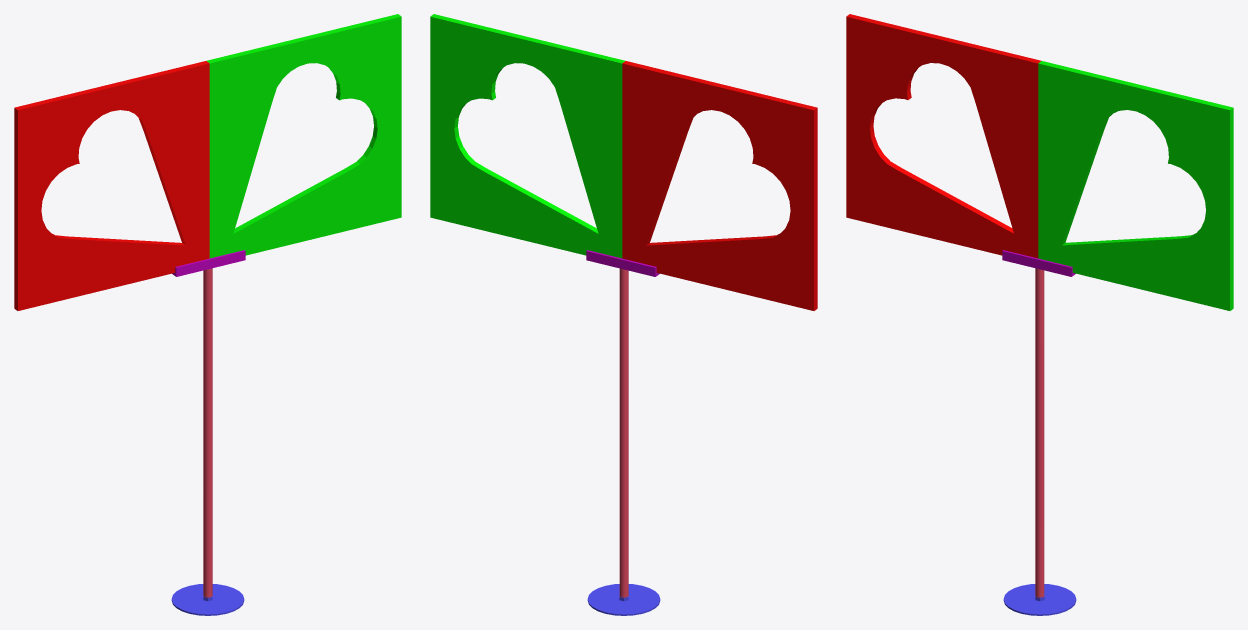
Rendered from torpedo_target.dae.
3 views of the same model, side by side, from view 1: azimuth 30°, elevation 25°; view 2: azimuth 150°, elevation 25°; view 3: azimuth 330°, elevation 25° (orthographic).
Visible parts, largest first — view 1: instance_6, instance_6_002, instance_4, instance_3_001, instance_6_003, instance_6_001, instance_5; view 2: instance_6, instance_6_002, instance_4, instance_3_001, instance_6_003, instance_6_001, instance_5; view 3: instance_6_002, instance_6, instance_4, instance_3_001, instance_6_001, instance_6_003, instance_5.
Boxes of the visible parts, box(x1,y1,x2,y2) form: instance_6: box(14, 61, 209, 310); instance_6_002: box(206, 14, 401, 258); instance_4: box(203, 268, 212, 597); instance_3_001: box(171, 584, 244, 615); instance_6_003: box(233, 68, 377, 233); instance_6_001: box(51, 114, 185, 245); instance_5: box(172, 250, 245, 276); instance_6: box(622, 61, 817, 310); instance_6_002: box(430, 14, 625, 258); instance_4: box(619, 268, 628, 597); instance_3_001: box(587, 584, 660, 615); instance_6_003: box(454, 68, 598, 233); instance_6_001: box(646, 114, 780, 245); instance_5: box(586, 250, 659, 276); instance_6_002: box(1038, 61, 1233, 310); instance_6: box(846, 14, 1041, 258); instance_4: box(1035, 268, 1044, 597); instance_3_001: box(1003, 584, 1076, 615); instance_6_001: box(870, 68, 1013, 233); instance_6_003: box(1062, 114, 1195, 245); instance_5: box(1002, 250, 1075, 276).
Size of the model in its own units: 1.22 by 0.2 by 1.63.
